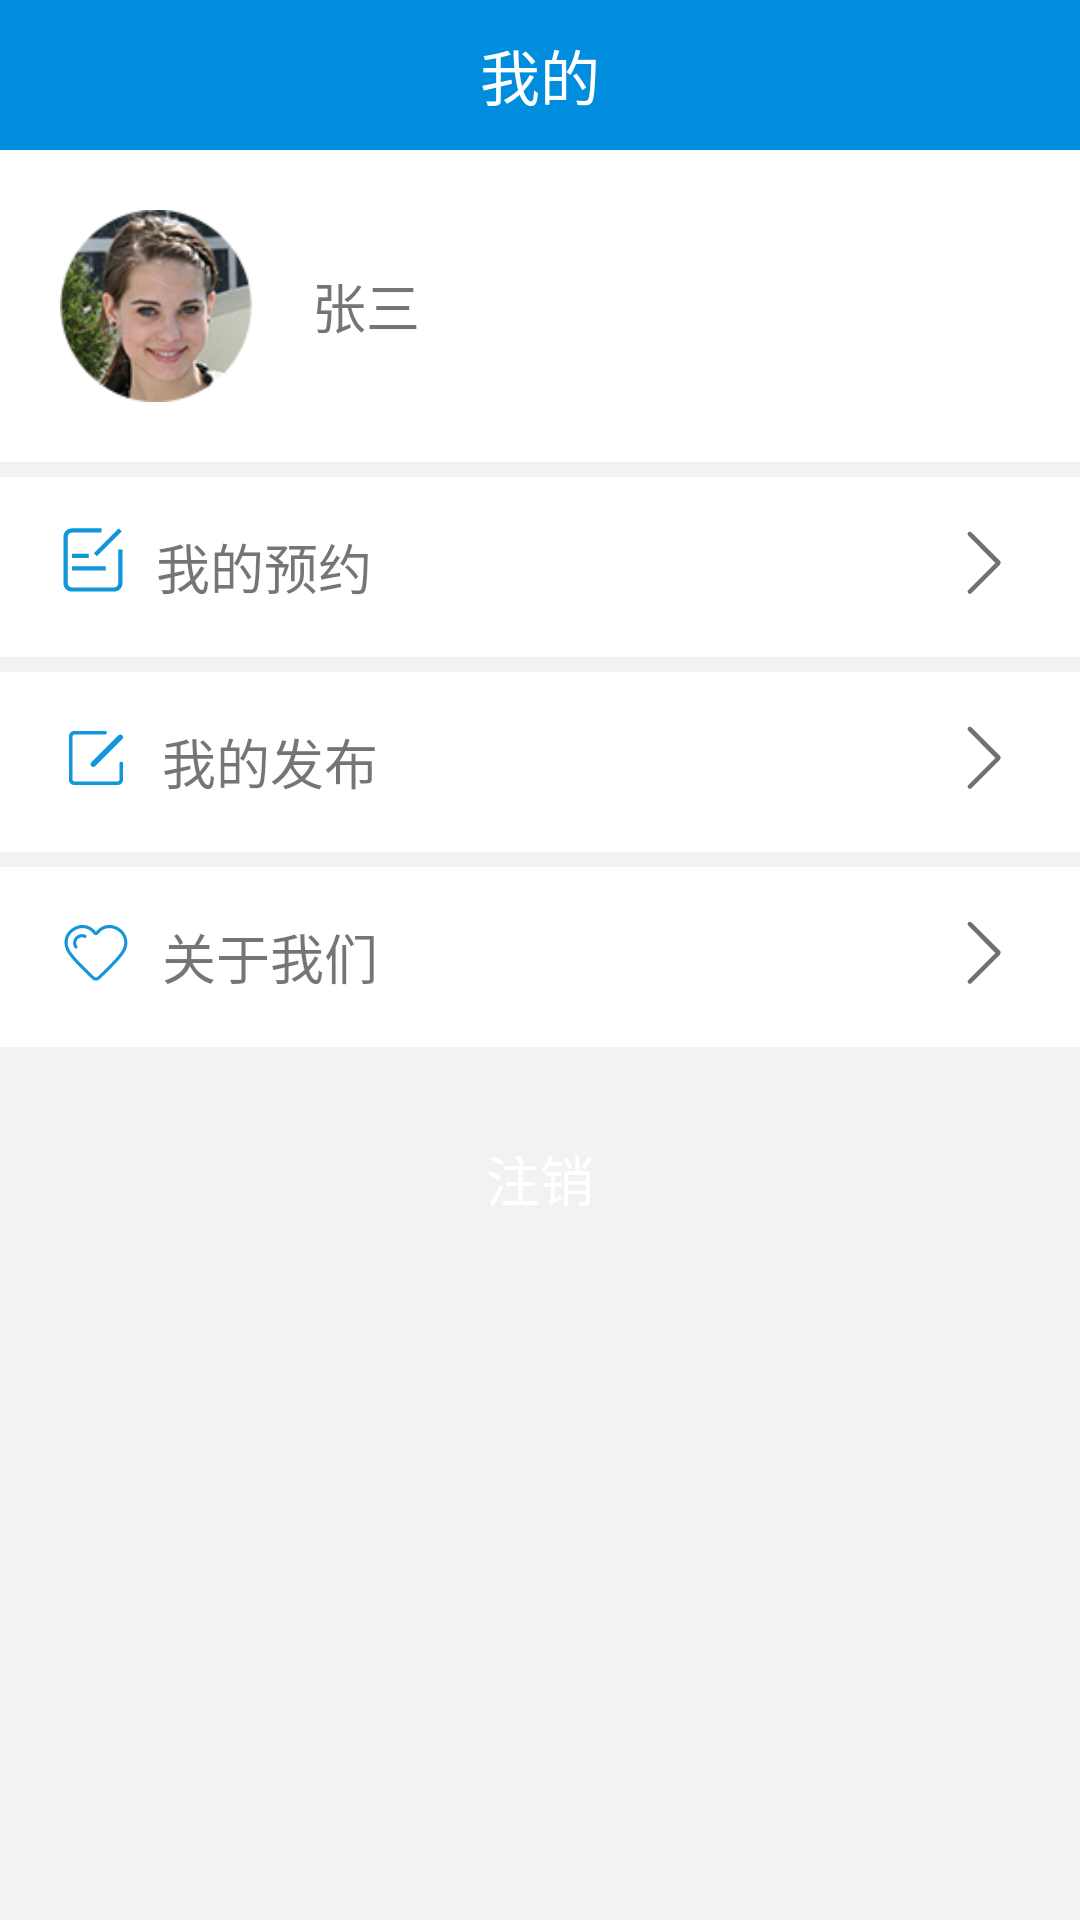

Point at icon controls on the screen. Image size 1080×1920, points as (x,y).
arrow: (984,562), (984,757), (984,952)
edit: (96,758)
heart: (96,953)
